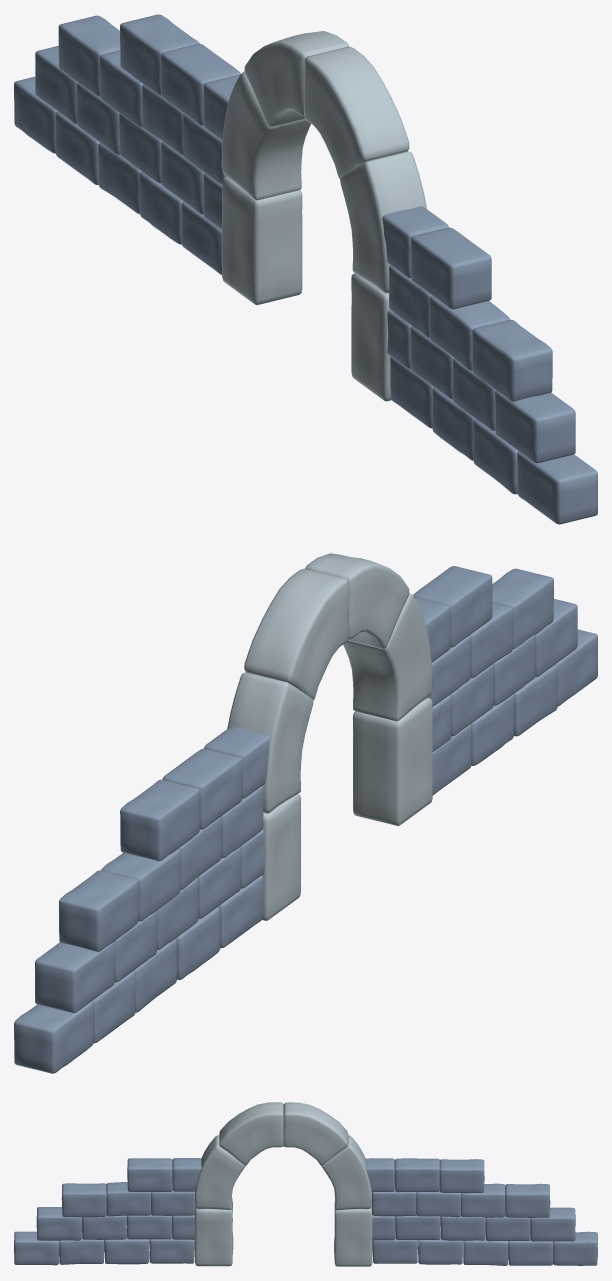
Rendered from ruins-arch-1.fbx.
3 renders of one model, top to bottom at view 1: azimuth 30°, elevation 25°; view 2: azimuth 150°, elevation 25°; view 3: azimuth 270°, elevation 25°, orthographic. The views are drawn at different scales.
Visible parts, largest first — view 1: Cube.007, Cube.010, Cube.009, Cube.006, Cube.018, Cube.017, Cube.008, Cube.016, Cube.015, Cube.005, Cube.031, Cube.032 (+24 smaller); view 2: Cube.008, Cube.005, Cube.006, Cube.009, Cube.032, Cube.007, Cube.035, Cube.034, Cube.033, Cube.010, Cube.031, Cube.018 (+24 smaller); view 3: Cube.008, Cube.007, Cube.006, Cube.009, Cube.010, Cube.005, Cube.018, Cube.017, Cube.032, Cube.031, Cube.035, Cube.034 (+24 smaller).
Boxes of the visible parts, box(x1,y1,x2,y2) form: Cube.007: box(304, 46, 409, 178); Cube.010: box(222, 176, 302, 305); Cube.009: box(221, 71, 310, 200); Cube.006: box(340, 151, 426, 293); Cube.018: box(411, 227, 491, 309); Cube.017: box(472, 319, 552, 401); Cube.008: box(244, 31, 348, 127); Cube.016: box(495, 391, 575, 463); Cube.015: box(517, 452, 597, 524); Cube.005: box(351, 273, 391, 401); Cube.031: box(161, 43, 240, 125); Cube.032: box(120, 14, 199, 95); Cube.008: box(244, 568, 348, 699); Cube.005: box(353, 697, 432, 825); Cube.006: box(343, 593, 432, 721); Cube.009: box(227, 672, 313, 813); Cube.032: box(120, 779, 199, 861); Cube.007: box(305, 553, 409, 649); Cube.035: box(59, 870, 138, 951); Cube.034: box(35, 941, 114, 1012); Cube.033: box(14, 1001, 93, 1073); Cube.010: box(261, 794, 301, 920); Cube.031: box(162, 748, 242, 829); Cube.018: box(413, 566, 492, 647); Cube.008: box(283, 1102, 348, 1165); Cube.007: box(219, 1102, 283, 1165); Cube.006: box(195, 1135, 245, 1209); Cube.009: box(321, 1135, 372, 1210); Cube.010: box(334, 1202, 372, 1266); Cube.005: box(194, 1201, 233, 1266); Cube.018: box(127, 1158, 172, 1191); Cube.017: box(61, 1183, 106, 1217); Cube.032: box(439, 1159, 484, 1193); Cube.031: box(394, 1158, 439, 1192); Cube.035: box(505, 1183, 550, 1217); Cube.034: box(530, 1207, 575, 1241).
Bounding box in the file's own units: 56.36 × 306 × 1053.
